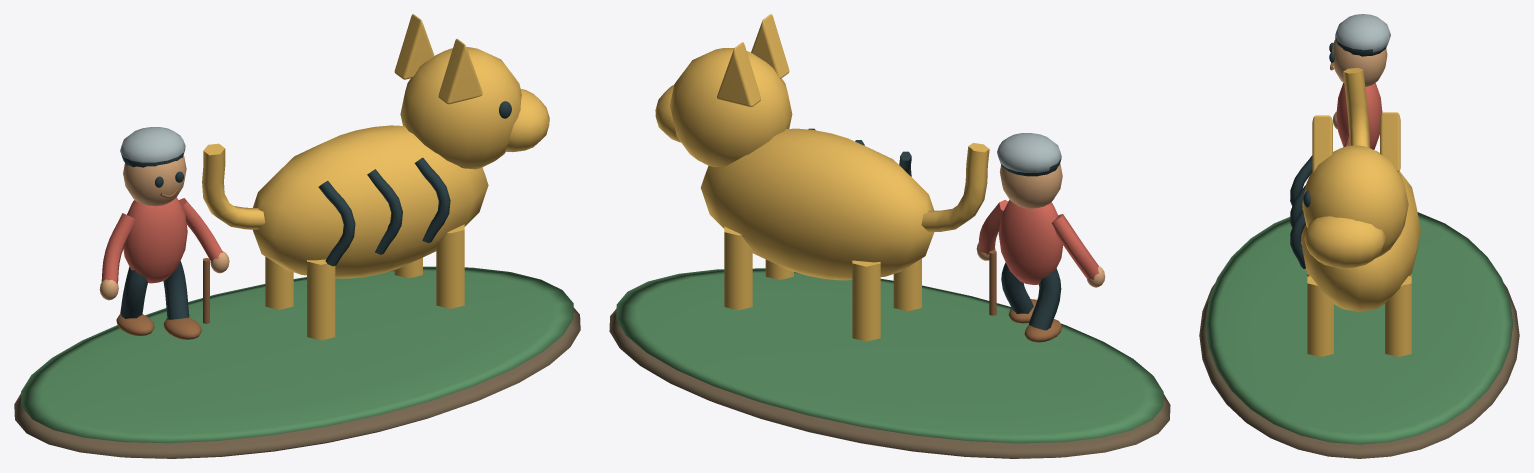
Rendered from elder-tiger.glb.
The picture shows the model from 3 angles, left to right: view 1: azimuth 30°, elevation 25°; view 2: azimuth 150°, elevation 25°; view 3: azimuth 270°, elevation 25°; orthographic projection. The views are drawn at different scales.
Parts seen in each view (by area): view 1: elder-tiger_surface_01, elder-tiger_surface_07, elder-tiger_surface_00, elder-tiger_surface_05, elder-tiger_surface_03, elder-tiger_surface_02, elder-tiger_surface_06, elder-tiger_surface_04; view 2: elder-tiger_surface_01, elder-tiger_surface_07, elder-tiger_surface_00, elder-tiger_surface_05, elder-tiger_surface_03, elder-tiger_surface_02, elder-tiger_surface_06, elder-tiger_surface_04; view 3: elder-tiger_surface_01, elder-tiger_surface_07, elder-tiger_surface_00, elder-tiger_surface_03, elder-tiger_surface_06, elder-tiger_surface_05, elder-tiger_surface_02.
Boxes of the visible parts, left/top/right/bottom form: elder-tiger_surface_01: left=21, top=266, right=573, bottom=443; elder-tiger_surface_07: left=202, top=14, right=549, bottom=340; elder-tiger_surface_00: left=14, top=307, right=580, bottom=458; elder-tiger_surface_05: left=101, top=197, right=223, bottom=283; elder-tiger_surface_03: left=120, top=101, right=511, bottom=319; elder-tiger_surface_02: left=99, top=155, right=229, bottom=300; elder-tiger_surface_06: left=120, top=127, right=185, bottom=162; elder-tiger_surface_04: left=116, top=189, right=209, bottom=339; elder-tiger_surface_01: left=616, top=268, right=1163, bottom=443; elder-tiger_surface_07: left=655, top=14, right=989, bottom=341; elder-tiger_surface_00: left=609, top=309, right=1170, bottom=458; elder-tiger_surface_05: left=978, top=200, right=1099, bottom=284; elder-tiger_surface_03: left=808, top=128, right=1061, bottom=330; elder-tiger_surface_02: left=976, top=163, right=1105, bottom=287; elder-tiger_surface_06: left=997, top=133, right=1061, bottom=172; elder-tiger_surface_04: left=989, top=250, right=1062, bottom=342; elder-tiger_surface_01: left=1205, top=212, right=1513, bottom=444; elder-tiger_surface_07: left=1301, top=67, right=1420, bottom=356; elder-tiger_surface_00: left=1199, top=283, right=1519, bottom=458; elder-tiger_surface_03: left=1290, top=36, right=1386, bottom=268; elder-tiger_surface_06: left=1335, top=14, right=1390, bottom=52; elder-tiger_surface_05: left=1336, top=83, right=1382, bottom=149; elder-tiger_surface_02: left=1332, top=39, right=1387, bottom=129.
Size of the model in its own units: 4.56 by 2.58 by 2.5.
